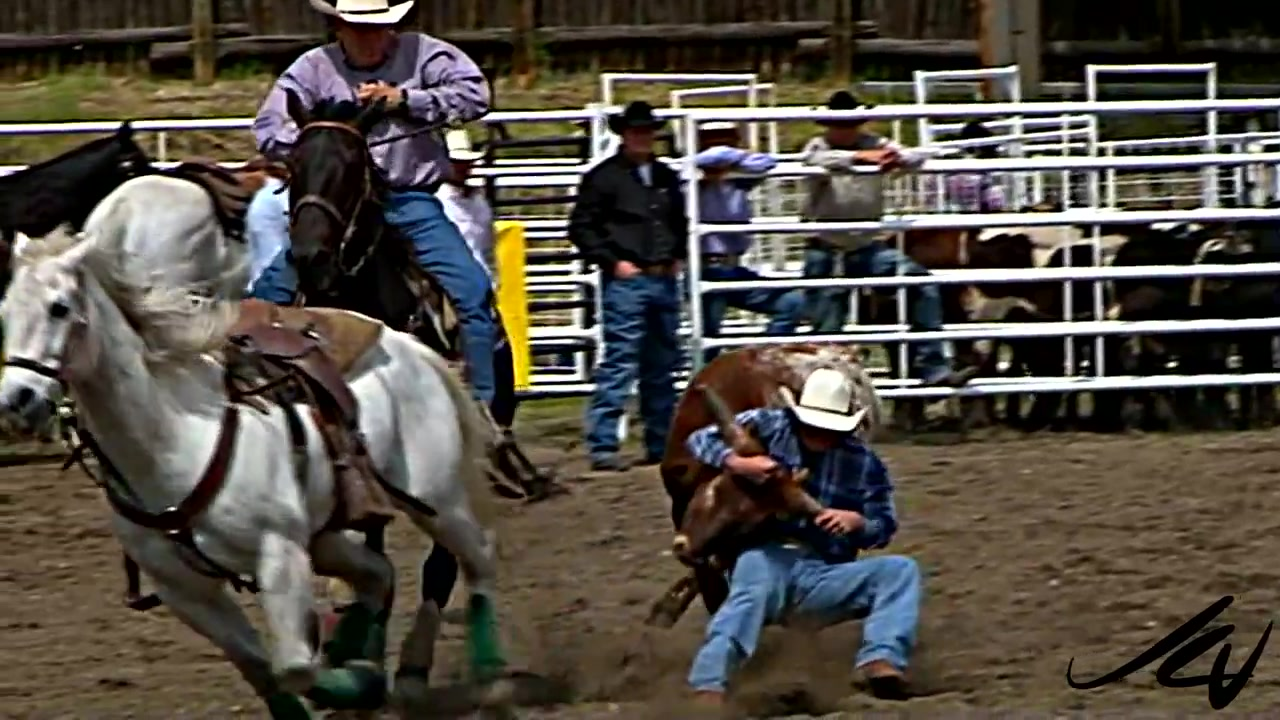horse: (3, 226, 508, 720)
